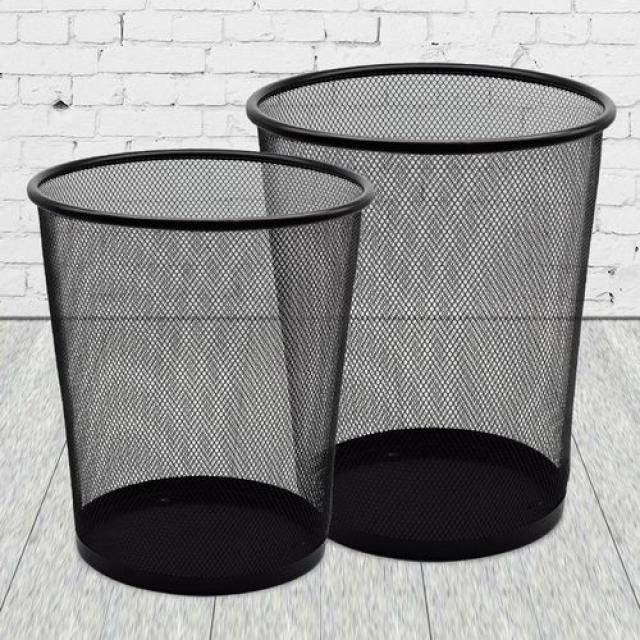Dustbin: (240, 58, 619, 568), (23, 143, 378, 602)
